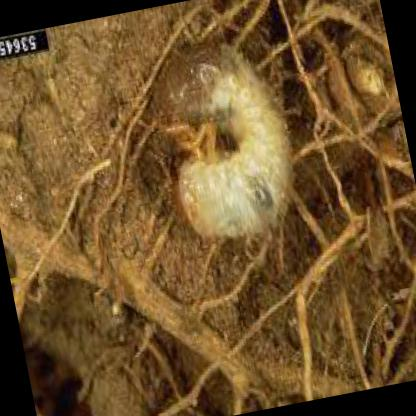root grubs: (157, 45, 287, 236)
